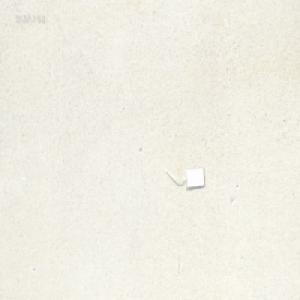LuggageTag: (165, 164, 205, 190)
